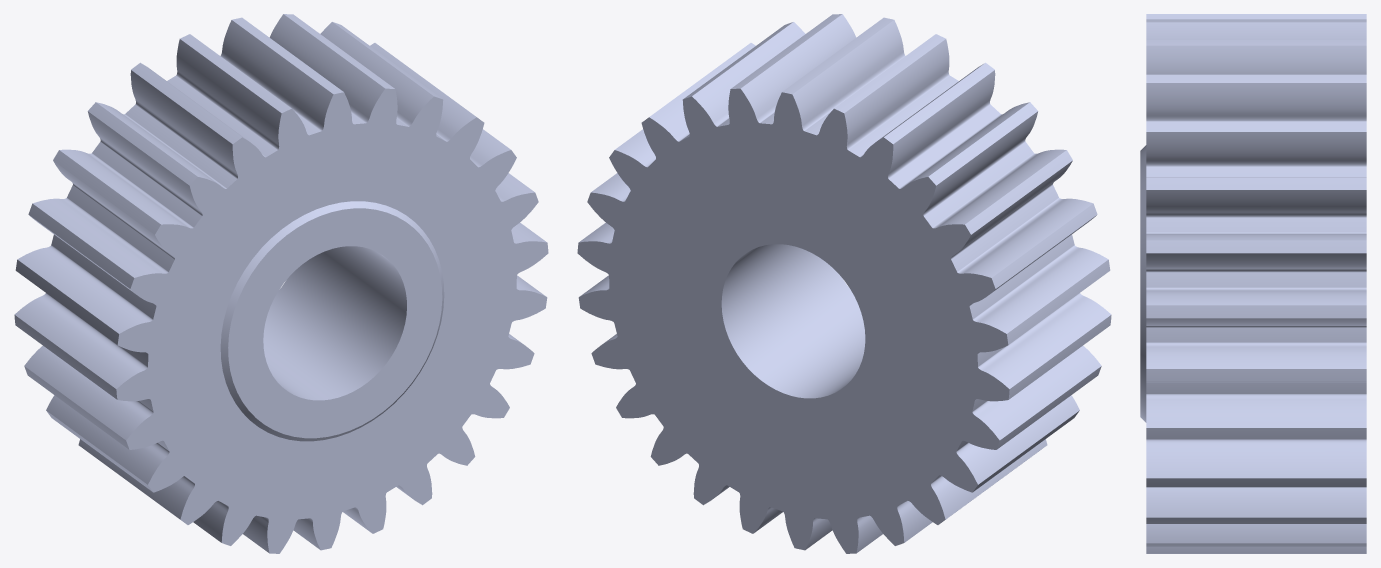
The model's file is REV_21_2103_P05_1_solid1.obj.
3 views of the same model, side by side, from view 1: azimuth 30°, elevation 25°; view 2: azimuth 150°, elevation 25°; view 3: azimuth 270°, elevation 25° (orthographic). The views are drawn at different scales.
Parts seen in each view (by area): view 1: mesh22419, mesh22416, mesh22418, mesh22454, mesh22498, mesh22495, mesh22466, mesh22451, mesh22483, mesh22462, mesh22463, mesh22448 (+26 smaller); view 2: mesh22420, mesh22418, mesh22454, mesh22498, mesh22495, mesh22466, mesh22451, mesh22483, mesh22462, mesh22463, mesh22448, mesh22486 (+23 smaller); view 3: mesh22471, mesh22484, mesh22490, mesh22474, mesh22429, mesh22481, mesh22487, mesh22477, mesh22432, mesh22478, mesh22480, mesh22496 (+24 smaller).
Boxes of the visible parts, box(x1,y1,x2,y2) form: mesh22419: box(116, 88, 548, 553); mesh22416: box(228, 208, 442, 438); mesh22418: box(263, 248, 406, 400); mesh22454: box(14, 293, 147, 388); mesh22498: box(220, 20, 333, 130); mesh22495: box(176, 39, 281, 149); mesh22466: box(17, 245, 152, 333); mesh22451: box(24, 346, 153, 440); mesh22483: box(269, 14, 385, 122); mesh22462: box(130, 70, 237, 178); mesh22463: box(33, 198, 168, 277); mesh22448: box(46, 395, 169, 484); mesh22420: box(577, 88, 1009, 553); mesh22418: box(721, 246, 865, 398); mesh22454: box(978, 293, 1111, 388); mesh22498: box(792, 20, 905, 130); mesh22495: box(844, 39, 949, 149); mesh22466: box(973, 245, 1108, 333); mesh22451: box(972, 346, 1101, 440); mesh22483: box(740, 14, 856, 122); mesh22462: box(888, 70, 995, 178); mesh22463: box(957, 198, 1092, 277); mesh22448: box(956, 395, 1079, 484); mesh22486: box(692, 22, 805, 126); mesh22471: box(1146, 439, 1366, 478); mesh22484: box(1146, 83, 1366, 121); mesh22490: box(1146, 132, 1366, 166); mesh22474: box(1146, 394, 1366, 427); mesh22429: box(1146, 487, 1366, 517); mesh22481: box(1146, 45, 1366, 74); mesh22487: box(1146, 190, 1366, 217); mesh22477: box(1146, 342, 1366, 368); mesh22432: box(1146, 524, 1366, 543); mesh22478: box(1146, 253, 1366, 272); mesh22480: box(1146, 287, 1366, 305); mesh22496: box(1146, 22, 1366, 39).
Bounding box in the file's own units: 0.0182 × 0.0182 × 0.00762.
